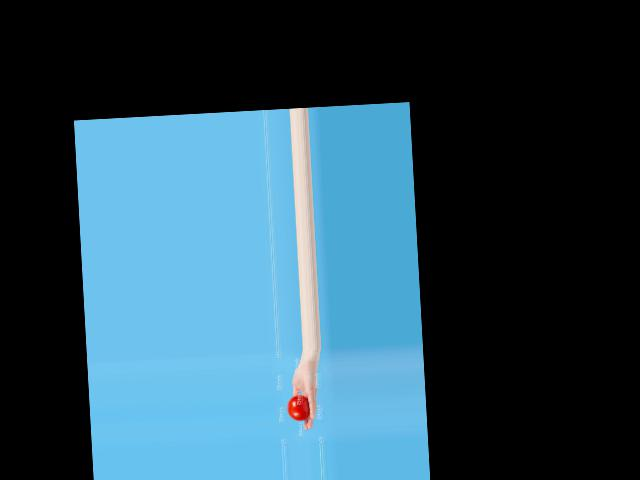tomato: (287, 394, 310, 421)
